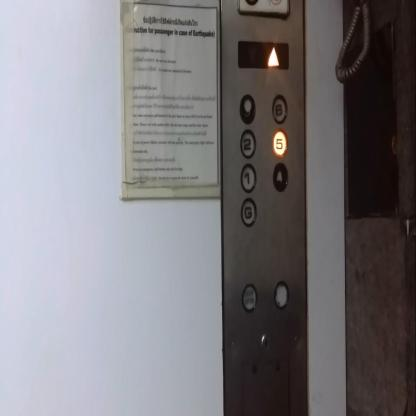1: (240, 164, 257, 196)
2: (240, 126, 256, 158)
5: (272, 128, 288, 161)
6: (271, 91, 288, 127)
G: (240, 195, 256, 230)
blur: (272, 160, 289, 194)
empty: (272, 278, 290, 309)
led: (238, 41, 290, 74)
text_blur: (240, 281, 258, 312)
unknown: (239, 91, 256, 125)
